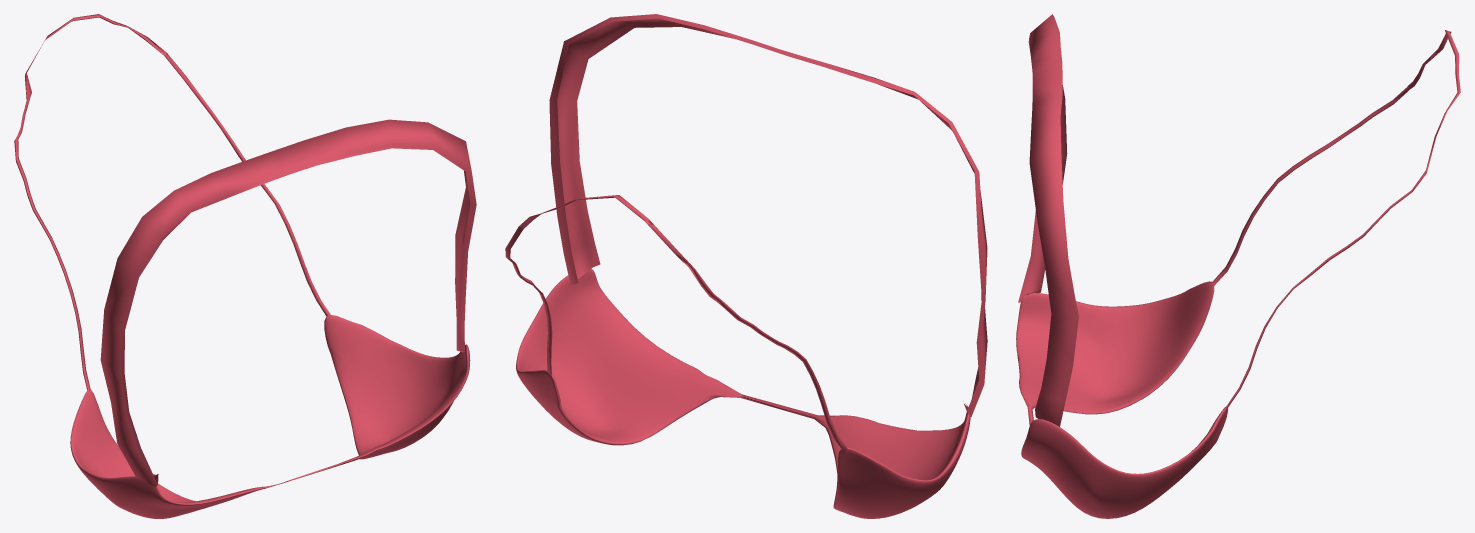
File: bikiniüst.fbx
The picture shows the model from 3 angles, left to right: view 1: azimuth 30°, elevation 25°; view 2: azimuth 150°, elevation 25°; view 3: azimuth 270°, elevation 25°; orthographic projection. The views are drawn at different scales.
Parts seen in each view (by area): view 1: Object001.002; view 2: Object001.002; view 3: Object001.002.
Boxes of the visible parts, x1,y1,x2,y2 form: Object001.002: [14, 14, 476, 518]; Object001.002: [505, 14, 987, 518]; Object001.002: [1016, 14, 1460, 518].
Size of the model in its own units: 319 by 302 by 297.
